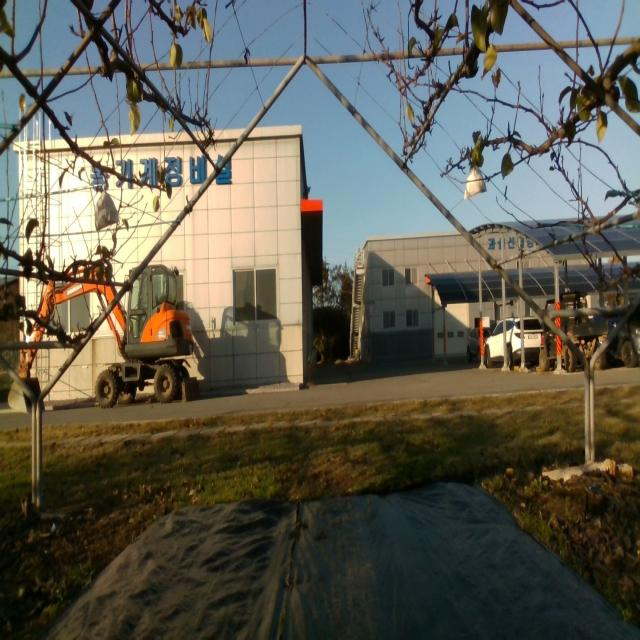pearbags: (464, 165, 487, 202), (95, 192, 118, 228)
